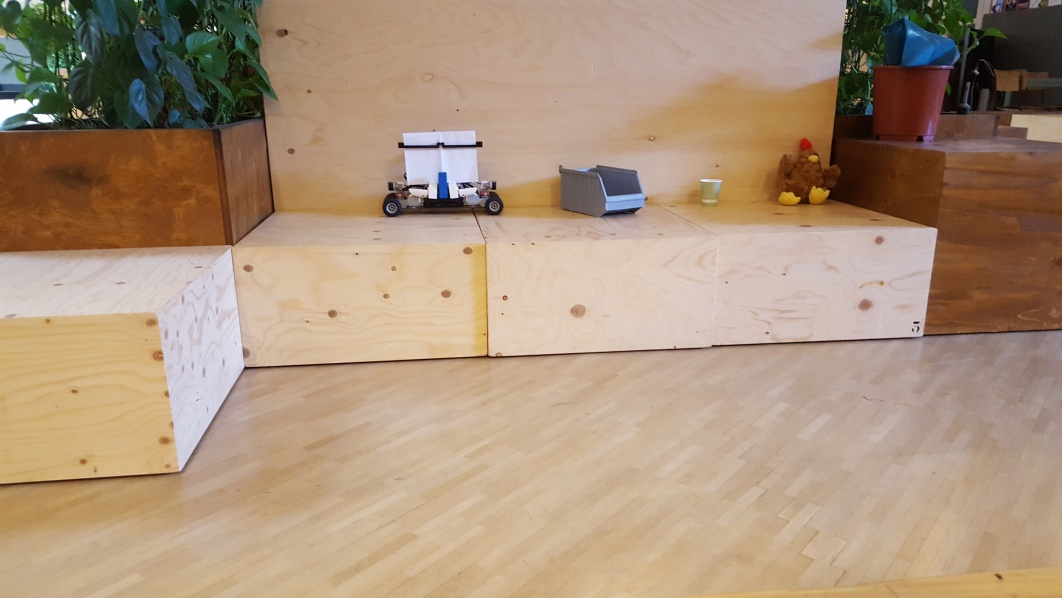beam: (437, 171, 449, 201)
chicken: (775, 138, 842, 210)
cup: (699, 176, 725, 211)
tray: (558, 164, 645, 218)
